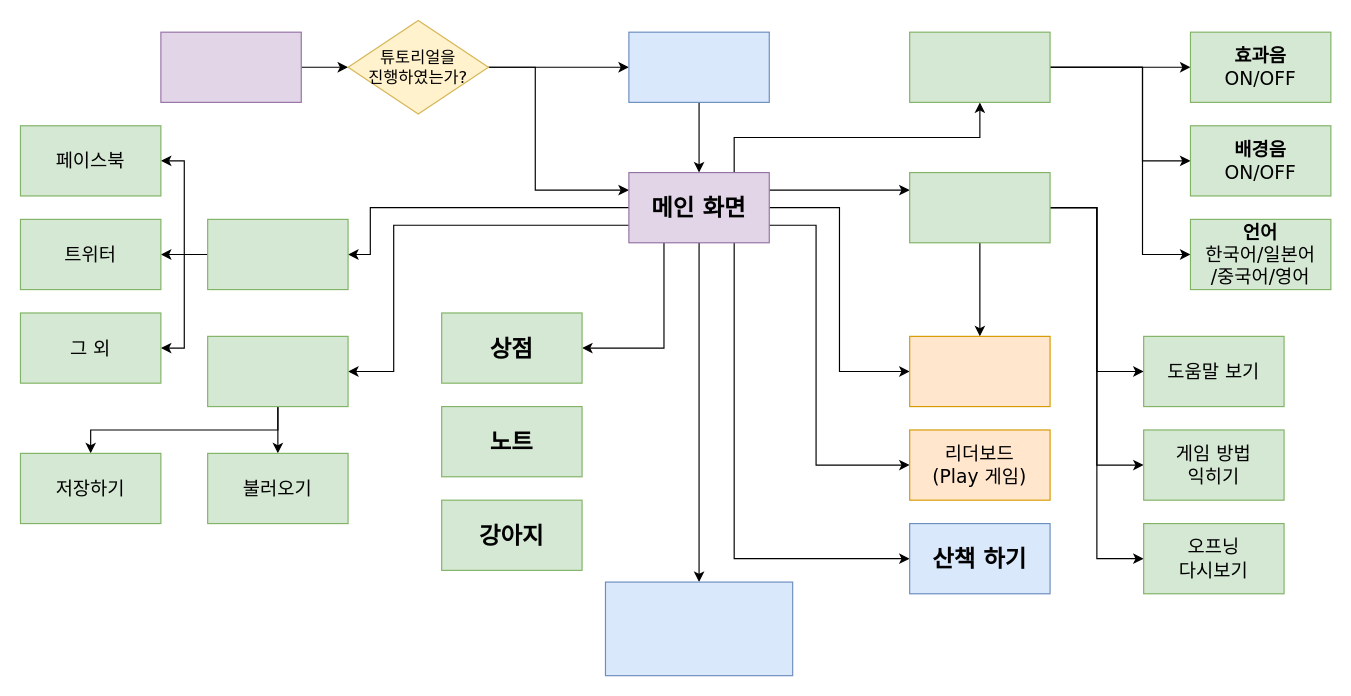
Some shapes in this 1351 by 696 pixel diagram are drawn without their labels. Each missing label, with the centre of its shape:
"개밥 주기 (플레이)" goes at (x=698, y=628).
"공유" goes at (x=277, y=254).
"도움말" goes at (x=979, y=207).
"설정" goes at (x=979, y=66).
"시작 화면" goes at (x=230, y=66).
"업적 (Play 게임)" goes at (x=979, y=371).
"저장" goes at (x=277, y=371).
"튜토리얼" goes at (x=698, y=66).
